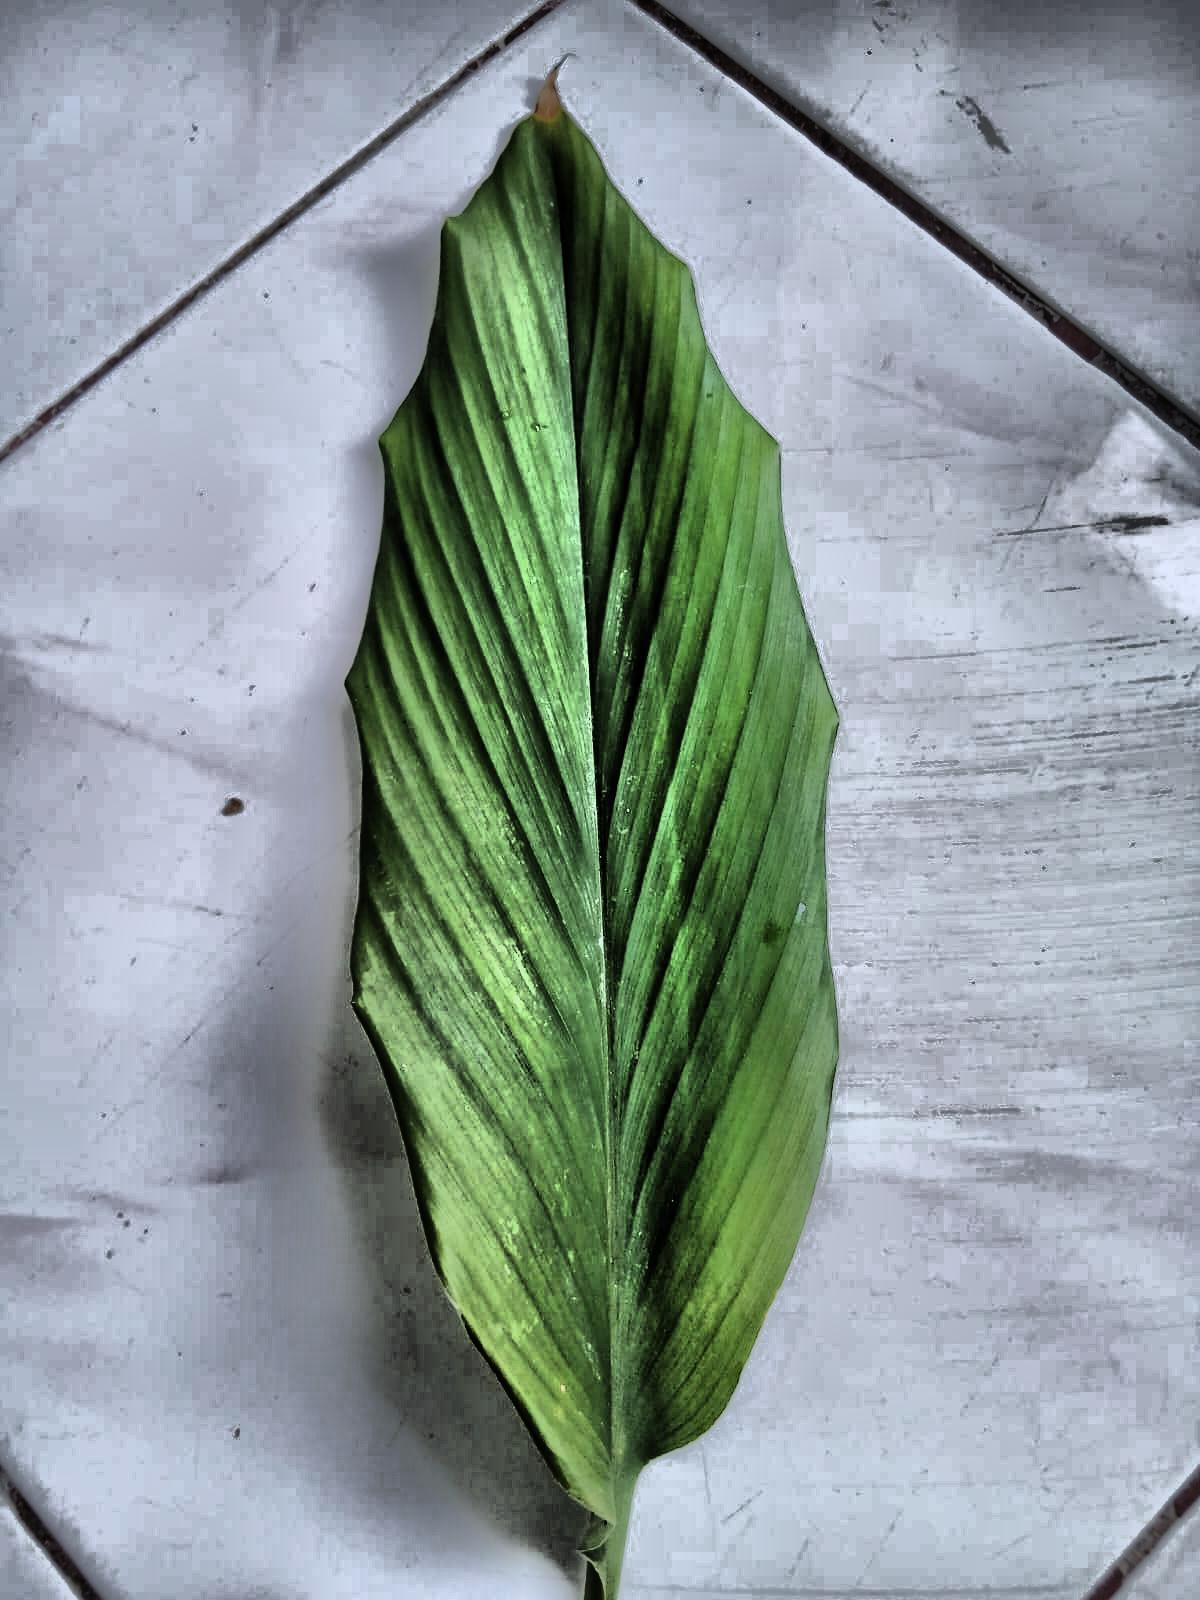daun kunyit: (347, 81, 838, 1599)
